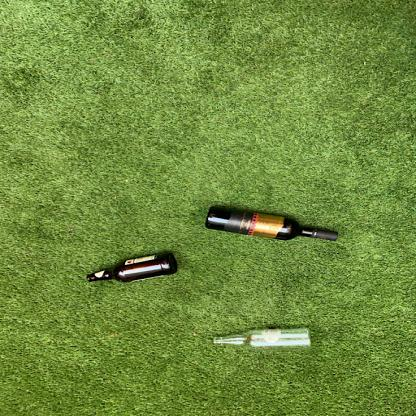trash: (200, 206, 344, 247), (81, 249, 179, 288), (210, 326, 314, 350)
